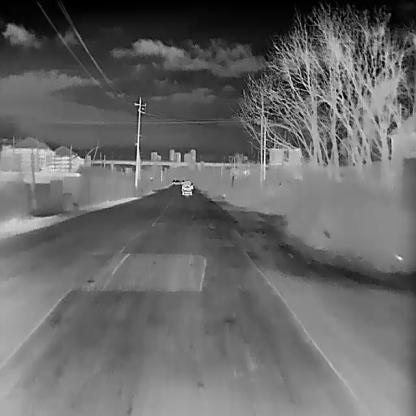car: (181, 180, 193, 195), (171, 178, 176, 184)
